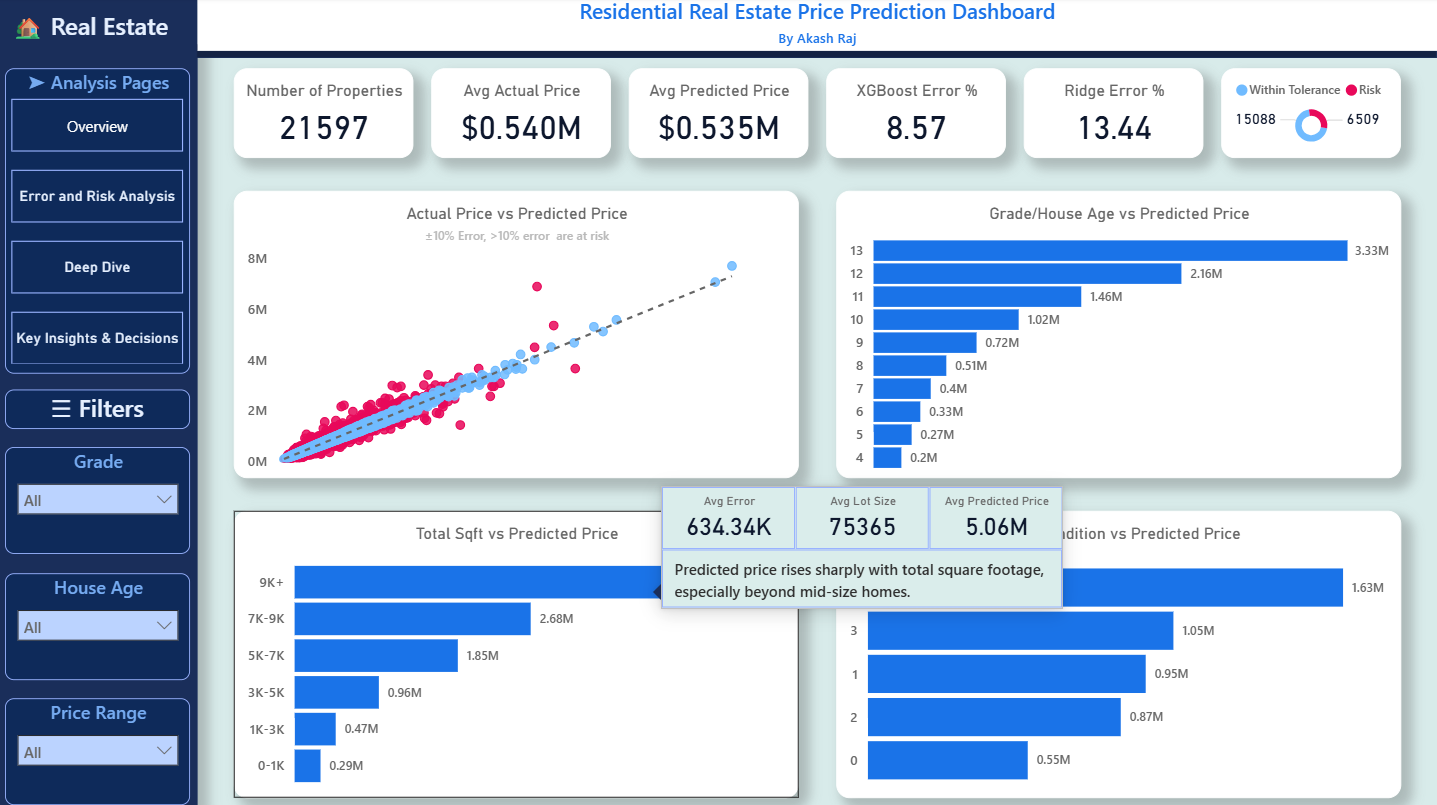

This screenshot's page, from the dashboard's own definition file:
{"tool":"tableau","page":{"name":"Model Reliability & Pricing Confidence","canvas":[1000,1000],"units":"permille","ordinal":1},"visuals":[{"type":"worksheet","title":"Ex-Back","mark":"Automatic","box":[0,0,1000,1000]},{"type":"text","box":[47.4,27.8,902.3,47.2]},{"type":"dashboard-object","box":[54.1,33.3,109.8,38.9]},{"type":"filter","title":"Actual vs Predicted — XGBoost","param":"[federated.0pb6tqq0hun84y1cwjt1z028dbxy].[none:actual_price:qk]","box":[674.4,175,91,98.6]},{"type":"filter","title":"Actual vs Predicted — XGBoost","param":"[federated.0pb6tqq0hun84y1cwjt1z028dbxy].[none:grade:qk]","box":[766.9,175,91,98.6]},{"type":"filter","title":"Ex-Back","param":"[federated.0pb6tqq0hun84y1cwjt1z028dbxy].[none:house_age:qk]","box":[859.4,175,91,98.6]},{"type":"worksheet","title":"KPI Tiles","mark":"Automatic","box":[49.6,176.4,581.2,98.6]},{"type":"blank","box":[166.9,176.4,2.3,97.2]},{"type":"blank","box":[281.9,176.4,2.3,97.2]},{"type":"blank","box":[397,176.4,2.3,97.2]},{"type":"blank","box":[512,176.4,2.3,97.2]},{"type":"worksheet","title":"Actual vs Predicted — XGBoost","mark":"Automatic","rows":["actual_price"],"cols":["xgb_pred_price"],"box":[43.6,419.4,281.2,481.9]},{"type":"worksheet","title":"Actual vs Predicted — Ridge","mark":"Automatic","rows":["actual_price"],"cols":["ridge_pred_price"],"box":[357.1,419.4,279.7,481.9]},{"type":"worksheet","title":"Total Sqft vs Predicted Price","mark":"Bar","rows":["Calculation_0555552130994176"],"cols":["xgb_pred_price"],"box":[671.4,419.4,280.4,481.9]},{"type":"text","box":[214.3,438.9,85.7,41.7]},{"type":"legend","title":"Total Sqft vs Predicted Price","param":"[federated.0pb6tqq0hun84y1cwjt1z028dbxy].[none:Calculation_0458520059084800:nk]","box":[209,833.3,112.8,58.3]}]}

Visuals, with their boxes on the dashboard's canvas, which has no fixed pixel size, in thousandths of its width and height (x1, y1, x2, y2). These are canvas units, not pixel positions in the 1437x805 screenshot, which may show the page scaled, cropped or inside an application window:
"Ex-Back" worksheet: (0,0,1000,1000)
text: (47,28,950,75)
dashboard-object: (54,33,164,72)
"Actual vs Predicted — XGBoost" filter: (674,175,765,274)
"Actual vs Predicted — XGBoost" filter: (767,175,858,274)
"Ex-Back" filter: (859,175,950,274)
"KPI Tiles" worksheet: (50,176,631,275)
blank: (167,176,169,274)
blank: (282,176,284,274)
blank: (397,176,399,274)
blank: (512,176,514,274)
"Actual vs Predicted — XGBoost" worksheet: (44,419,325,901)
"Actual vs Predicted — Ridge" worksheet: (357,419,637,901)
"Total Sqft vs Predicted Price" worksheet (Bar marks): (671,419,952,901)
text: (214,439,300,481)
"Total Sqft vs Predicted Price" legend: (209,833,322,892)
